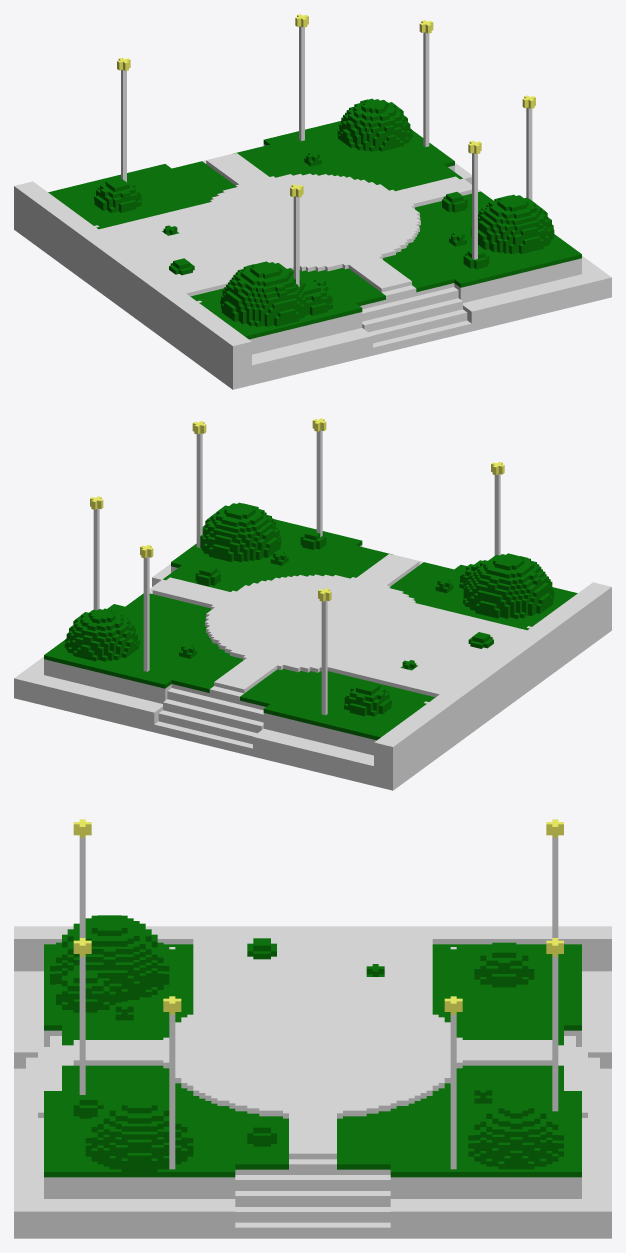
The model's file is Plaza-1-Plaza.obj.
3 views of the same model, one above another, from view 1: azimuth 30°, elevation 25°; view 2: azimuth 150°, elevation 25°; view 3: azimuth 270°, elevation 25° (orthographic). The views are drawn at different scales.
Parts seen in each view (by area): view 1: Plaza; view 2: Plaza; view 3: Plaza.
Part boxes in pixels (bbox=[...]): Plaza: bbox=[14, 14, 611, 389]; Plaza: bbox=[14, 418, 611, 790]; Plaza: bbox=[14, 819, 611, 1238].
Size of the model in its own units: 10 by 4.1 by 10.
Materials: 1 (1 with a texture image).
